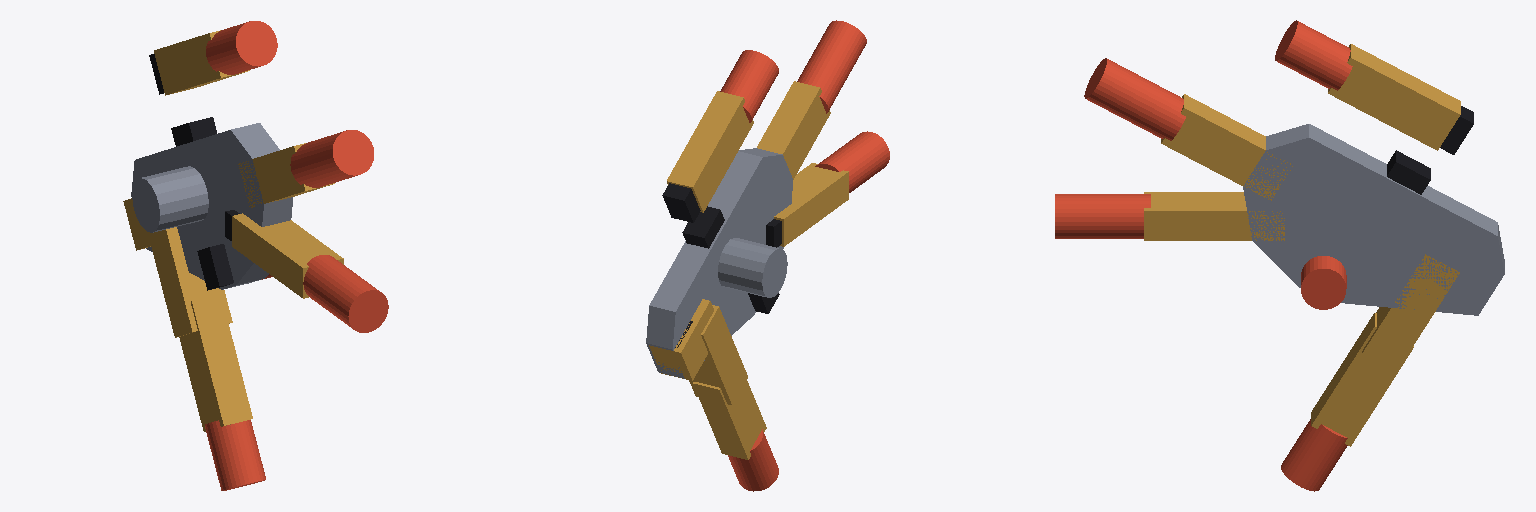
robot.urdf — g0067_c11:
<robot name="g0067_c11">
  <link name="palm">
    <visual name="palm_palm1">
      <origin xyz="0 0 0" rpy="0 0 0" />
      <geometry>
        <mesh filename="palm_palm1.obj" />
      </geometry>
      <material name="palm_palm1_mat">
        <color rgba="0.55 0.57 0.62 1" />
      </material>
    </visual>
    <collision>
      <origin xyz="0 0 0" rpy="0 0 0" />
      <geometry>
        <mesh filename="palm_palm1.obj" />
      </geometry>
    </collision>
    <visual name="palm_mount2">
      <origin xyz="0 0 0" rpy="0 0 0" />
      <geometry>
        <mesh filename="palm_mount2.obj" />
      </geometry>
      <material name="palm_mount2_mat">
        <color rgba="0.55 0.57 0.62 1" />
      </material>
    </visual>
    <collision>
      <origin xyz="0 0 0" rpy="0 0 0" />
      <geometry>
        <mesh filename="palm_mount2.obj" />
      </geometry>
    </collision>
    <visual name="palm_hinge3">
      <origin xyz="0 0.01625 0.0281458256" rpy="-1.57079633 0.523598776 1.57079633" />
      <geometry>
        <box size="0.029 0.034 0.02" />
      </geometry>
      <material name="palm_hinge3_mat">
        <color rgba="0.15 0.15 0.17 1" />
      </material>
    </visual>
    <collision>
      <origin xyz="0 0.01625 0.0281458256" rpy="-1.57079633 0.523598776 1.57079633" />
      <geometry>
        <box size="0.029 0.034 0.02" />
      </geometry>
    </collision>
    <visual name="palm_motor4">
      <origin xyz="-0.0045 -0.0725 1.37772765e-18" rpy="1.8369702e-16 -6.123234e-17 -1.12481984e-32" />
      <geometry>
        <box size="0.029 0.034 0.02" />
      </geometry>
      <material name="palm_motor4_mat">
        <color rgba="0.15 0.15 0.17 1" />
      </material>
    </visual>
    <collision>
      <origin xyz="-0.0045 -0.0725 1.37772765e-18" rpy="1.8369702e-16 -6.123234e-17 -1.12481984e-32" />
      <geometry>
        <box size="0.029 0.034 0.02" />
      </geometry>
    </collision>
    <visual name="palm_motor5">
      <origin xyz="0 -0.0735048095 0.03625" rpy="-1.57079633 -1.04719755 1.57079633" />
      <geometry>
        <box size="0.029 0.034 0.02" />
      </geometry>
      <material name="palm_motor5_mat">
        <color rgba="0.15 0.15 0.17 1" />
      </material>
    </visual>
    <collision>
      <origin xyz="0 -0.0735048095 0.03625" rpy="-1.57079633 -1.04719755 1.57079633" />
      <geometry>
        <box size="0.029 0.034 0.02" />
      </geometry>
    </collision>
    <visual name="palm_motor6">
      <origin xyz="-0.007 -0.04 -0.04" rpy="1.06057524e-16 -1.04719755 1.57079633" />
      <geometry>
        <box size="0.029 0.034 0.02" />
      </geometry>
      <material name="palm_motor6_mat">
        <color rgba="0.15 0.15 0.17 1" />
      </material>
    </visual>
    <collision>
      <origin xyz="-0.007 -0.04 -0.04" rpy="1.06057524e-16 -1.04719755 1.57079633" />
      <geometry>
        <box size="0.029 0.034 0.02" />
      </geometry>
    </collision>
    <visual name="palm_motor7">
      <origin xyz="-0.0045 0.0666996732 -0.0467548095" rpy="1.57079633 -0.523598776 -1.57079633" />
      <geometry>
        <box size="0.029 0.034 0.02" />
      </geometry>
      <material name="palm_motor7_mat">
        <color rgba="0.15 0.15 0.17 1" />
      </material>
    </visual>
    <collision>
      <origin xyz="-0.0045 0.0666996732 -0.0467548095" rpy="1.57079633 -0.523598776 -1.57079633" />
      <geometry>
        <box size="0.029 0.034 0.02" />
      </geometry>
    </collision>
    <inertial>
      <origin xyz="2.56313507e-19 -0.00935295339 -0.0074938495" rpy="1.57079633 0.458938927 1.57079633" />
      <mass value="0.72289775" />
      <inertia ixx="0.000563399007" ixy="0" ixz="0" iyy="0.00197705941" iyz="0" izz="0.00247106024" />
    </inertial>
  </link>
  <link name="palm0">
    <visual name="palm0_palm1">
      <origin xyz="0 0 0" rpy="0 0 0" />
      <geometry>
        <mesh filename="palm0_palm1.obj" />
      </geometry>
      <material name="palm0_palm1_mat">
        <color rgba="0.55 0.57 0.62 1" />
      </material>
    </visual>
    <collision>
      <origin xyz="0 0 0" rpy="0 0 0" />
      <geometry>
        <mesh filename="palm0_palm1.obj" />
      </geometry>
    </collision>
    <visual name="palm0_motor2">
      <origin xyz="0 0.0264951905 0.0416089838" rpy="-1.57079633 -1.04719755 1.57079633" />
      <geometry>
        <box size="0.029 0.034 0.02" />
      </geometry>
      <material name="palm0_motor2_mat">
        <color rgba="0.15 0.15 0.17 1" />
      </material>
    </visual>
    <collision>
      <origin xyz="0 0.0264951905 0.0416089838" rpy="-1.57079633 -1.04719755 1.57079633" />
      <geometry>
        <box size="0.029 0.034 0.02" />
      </geometry>
    </collision>
    <inertial>
      <origin xyz="1.05917598e-18 0.0152554736 0.0247918143" rpy="1.57079633 0.50750624 1.57079633" />
      <mass value="0.233248565" />
      <inertia ixx="7.64424394e-05" ixy="0" ixz="0" iyy="0.00022302995" iyz="0" izz="0.000277080527" />
    </inertial>
  </link>
  <link name="f0_link0">
    <visual name="f0_link0_link1">
      <origin xyz="0.03875 0 0" rpy="0 -0 0" />
      <geometry>
        <box size="0.1015 0.033 0.024" />
      </geometry>
      <material name="f0_link0_link1_mat">
        <color rgba="0.80 0.62 0.30 1" />
      </material>
    </visual>
    <collision>
      <origin xyz="0.03875 0 0" rpy="0 -0 0" />
      <geometry>
        <box size="0.1015 0.033 0.024" />
      </geometry>
    </collision>
    <inertial>
      <origin xyz="0.03875 0 0" rpy="0 0 0" />
      <mass value="0.140679" />
      <inertia ixx="1.95192113e-05" ixy="0" ixz="0" iyy="0.000127528444" iyz="0" izz="0.000133542472" />
    </inertial>
  </link>
  <link name="f0_link1">
    <visual name="f0_link1_link1">
      <origin xyz="0.039 0 4.62223187e-33" rpy="-1.57079633 -0 -1.57079633" />
      <geometry>
        <cylinder radius="0.0165" length="0.069" />
      </geometry>
      <material name="f0_link1_link1_mat">
        <color rgba="0.85 0.35 0.25 1" />
      </material>
    </visual>
    <collision>
      <origin xyz="0.039 0 4.62223187e-33" rpy="-1.57079633 -0 -1.57079633" />
      <geometry>
        <cylinder radius="0.0165" length="0.069" />
      </geometry>
    </collision>
    <inertial>
      <origin xyz="0.039 0 0" rpy="0 0 0" />
      <mass value="0.136206302" />
      <inertia ixx="1.76445909e-05" ixy="0" ixz="0" iyy="0.000104842911" iyz="0" izz="0.000104842911" />
    </inertial>
  </link>
  <link name="f1_link0">
    <visual name="f1_link0_link1">
      <origin xyz="0.03375 0 -1.04083409e-17" rpy="0 7.03853194e-17 0" />
      <geometry>
        <box size="0.0915 0.024 0.033" />
      </geometry>
      <material name="f1_link0_link1_mat">
        <color rgba="0.80 0.62 0.30 1" />
      </material>
    </visual>
    <collision>
      <origin xyz="0.03375 0 -1.04083409e-17" rpy="0 7.03853194e-17 0" />
      <geometry>
        <box size="0.0915 0.024 0.033" />
      </geometry>
    </collision>
    <inertial>
      <origin xyz="0.03375 0 0" rpy="0 0 0" />
      <mass value="0.126819" />
      <inertia ixx="1.75961363e-05" ixy="0" ixz="0" iyy="9.99888553e-05" iyz="0" izz="9.45673431e-05" />
    </inertial>
  </link>
  <link name="f1_link1">
    <visual name="f1_link1_link1">
      <origin xyz="0.039 0 -1.77809156e-17" rpy="-1.57079633 -0 -1.57079633" />
      <geometry>
        <cylinder radius="0.0165" length="0.069" />
      </geometry>
      <material name="f1_link1_link1_mat">
        <color rgba="0.85 0.35 0.25 1" />
      </material>
    </visual>
    <collision>
      <origin xyz="0.039 0 -1.77809156e-17" rpy="-1.57079633 -0 -1.57079633" />
      <geometry>
        <cylinder radius="0.0165" length="0.069" />
      </geometry>
    </collision>
    <inertial>
      <origin xyz="0.039 0 0" rpy="0 0 0" />
      <mass value="0.136206302" />
      <inertia ixx="1.76445909e-05" ixy="0" ixz="0" iyy="0.000104842911" iyz="0" izz="0.000104842911" />
    </inertial>
  </link>
  <link name="f2_link0">
    <visual name="f2_link0_link1">
      <origin xyz="0.019 3.46944695e-18 -3.46944695e-18" rpy="-1.57079633 -0 -1.57079633" />
      <geometry>
        <cylinder radius="0.0165" length="0.029" />
      </geometry>
      <material name="f2_link0_link1_mat">
        <color rgba="0.85 0.35 0.25 1" />
      </material>
    </visual>
    <collision>
      <origin xyz="0.019 3.46944695e-18 -3.46944695e-18" rpy="-1.57079633 -0 -1.57079633" />
      <geometry>
        <cylinder radius="0.0165" length="0.029" />
      </geometry>
    </collision>
    <inertial>
      <origin xyz="0.019 0 0" rpy="0 0 0" />
      <mass value="0.0763354" />
      <inertia ixx="9.49466441e-06" ixy="0" ixz="0" iyy="2.24143997e-05" iyz="0" izz="2.24143997e-05" />
    </inertial>
  </link>
  <link name="f3_link0">
    <visual name="f3_link0_link1">
      <origin xyz="-0.00625 0 -0.0165" rpy="0 4.06369831e-17 0" />
      <geometry>
        <box size="0.0365 0.029 0.053" />
      </geometry>
      <material name="f3_link0_link1_mat">
        <color rgba="0.80 0.62 0.30 1" />
      </material>
    </visual>
    <collision>
      <origin xyz="-0.00625 0 -0.0165" rpy="0 4.06369831e-17 0" />
      <geometry>
        <box size="0.0365 0.029 0.053" />
      </geometry>
    </collision>
    <inertial>
      <origin xyz="-0.00625 0 -0.0165" rpy="0 0 0" />
      <mass value="0.098175875" />
      <inertia ixx="2.98618286e-05" ixy="0" ixz="0" iyy="3.38809035e-05" iyz="0" izz="1.778006e-05" />
    </inertial>
  </link>
  <link name="f3_link1">
    <visual name="f3_link1_link1">
      <origin xyz="0.03375 0 6.9388939e-18" rpy="0 4.06369831e-17 0" />
      <geometry>
        <box size="0.0915 0.033 0.029" />
      </geometry>
      <material name="f3_link1_link1_mat">
        <color rgba="0.80 0.62 0.30 1" />
      </material>
    </visual>
    <collision>
      <origin xyz="0.03375 0 6.9388939e-18" rpy="0 4.06369831e-17 0" />
      <geometry>
        <box size="0.0915 0.033 0.029" />
      </geometry>
    </collision>
    <inertial>
      <origin xyz="0.03375 0 0" rpy="0 0 0" />
      <mass value="0.153239625" />
      <inertia ixx="2.46460397e-05" ixy="0" ixz="0" iyy="0.000117652915" iyz="0" izz="0.000120819867" />
    </inertial>
  </link>
  <link name="f3_link2">
    <visual name="f3_link2_link1">
      <origin xyz="0.03375 0 -1.38777878e-17" rpy="0 4.06369831e-17 0" />
      <geometry>
        <box size="0.0915 0.024 0.033" />
      </geometry>
      <material name="f3_link2_link1_mat">
        <color rgba="0.80 0.62 0.30 1" />
      </material>
    </visual>
    <collision>
      <origin xyz="0.03375 0 -1.38777878e-17" rpy="0 4.06369831e-17 0" />
      <geometry>
        <box size="0.0915 0.024 0.033" />
      </geometry>
    </collision>
    <inertial>
      <origin xyz="0.03375 0 0" rpy="0 0 0" />
      <mass value="0.126819" />
      <inertia ixx="1.75961363e-05" ixy="0" ixz="0" iyy="9.99888553e-05" iyz="0" izz="9.45673431e-05" />
    </inertial>
  </link>
  <link name="f3_link3">
    <visual name="f3_link3_link1">
      <origin xyz="0.029 0 1.04083409e-17" rpy="-1.57079633 -0 -1.57079633" />
      <geometry>
        <cylinder radius="0.0165" length="0.049" />
      </geometry>
      <material name="f3_link3_link1_mat">
        <color rgba="0.85 0.35 0.25 1" />
      </material>
    </visual>
    <collision>
      <origin xyz="0.029 0 1.04083409e-17" rpy="-1.57079633 -0 -1.57079633" />
      <geometry>
        <cylinder radius="0.0165" length="0.049" />
      </geometry>
    </collision>
    <inertial>
      <origin xyz="0.029 0 0" rpy="0 0 0" />
      <mass value="0.106270851" />
      <inertia ixx="1.35696277e-05" ixy="0" ixz="0" iyy="5.30015704e-05" iyz="0" izz="5.30015704e-05" />
    </inertial>
  </link>
  <link name="f4_link0">
    <visual name="f4_link0_link1">
      <origin xyz="0.03375 0 0" rpy="0 7.03853194e-17 0" />
      <geometry>
        <box size="0.0915 0.024 0.033" />
      </geometry>
      <material name="f4_link0_link1_mat">
        <color rgba="0.80 0.62 0.30 1" />
      </material>
    </visual>
    <collision>
      <origin xyz="0.03375 0 0" rpy="0 7.03853194e-17 0" />
      <geometry>
        <box size="0.0915 0.024 0.033" />
      </geometry>
    </collision>
    <inertial>
      <origin xyz="0.03375 0 0" rpy="0 0 0" />
      <mass value="0.126819" />
      <inertia ixx="1.75961363e-05" ixy="0" ixz="0" iyy="9.99888553e-05" iyz="0" izz="9.45673431e-05" />
    </inertial>
  </link>
  <link name="f4_link1">
    <visual name="f4_link1_link1">
      <origin xyz="0.029 0 -6.9388939e-18" rpy="-1.57079633 -0 -1.57079633" />
      <geometry>
        <cylinder radius="0.0165" length="0.049" />
      </geometry>
      <material name="f4_link1_link1_mat">
        <color rgba="0.85 0.35 0.25 1" />
      </material>
    </visual>
    <collision>
      <origin xyz="0.029 0 -6.9388939e-18" rpy="-1.57079633 -0 -1.57079633" />
      <geometry>
        <cylinder radius="0.0165" length="0.049" />
      </geometry>
    </collision>
    <inertial>
      <origin xyz="0.029 0 0" rpy="0 0 0" />
      <mass value="0.106270851" />
      <inertia ixx="1.35696277e-05" ixy="0" ixz="0" iyy="5.30015704e-05" iyz="0" izz="5.30015704e-05" />
    </inertial>
  </link>
  <joint name="palm0_joint" type="revolute">
    <parent link="palm" />
    <child link="palm0" />
    <origin xyz="0 0.02 0.0346410162" rpy="0 0 0" />
    <axis xyz="0 0.866025404 -0.5" />
    <limit effort="0.5" lower="-0.523598776" upper="0.523598776" velocity="5" />
    <dynamics damping="0.0775033" friction="0" />
  </joint>
  <joint name="f0_j0" type="revolute">
    <parent link="palm" />
    <child link="f0_link0" />
    <origin xyz="-0.0045 -0.08 0" rpy="0 1.8369702e-16 -1.57079633" />
    <axis xyz="-0 -1 -6.123234e-17" />
    <limit effort="0.5" lower="-0.523598776" upper="0.523598776" velocity="5" />
    <dynamics damping="0.0775033" friction="0" />
  </joint>
  <joint name="f0_j1" type="revolute">
    <parent link="f0_link0" />
    <child link="f0_link1" />
    <origin xyz="0.08 0 0" rpy="0 0 0" />
    <axis xyz="-0 -1 -6.123234e-17" />
    <limit effort="0.5" lower="-0.523598776" upper="0.523598776" velocity="5" />
    <dynamics damping="0.0775033" friction="0" />
  </joint>
  <joint name="f1_j0" type="revolute">
    <parent link="palm" />
    <child link="f1_link0" />
    <origin xyz="0 -0.08 0.04" rpy="-0 -0.523598776 -1.57079633" />
    <axis xyz="0 0 1" />
    <limit effort="0.5" lower="-0.523598776" upper="1.57079633" velocity="5" />
    <dynamics damping="0.0775033" friction="0" />
  </joint>
  <joint name="f1_j1" type="revolute">
    <parent link="f1_link0" />
    <child link="f1_link1" />
    <origin xyz="0.07 0 0" rpy="0 0 0" />
    <axis xyz="0 0 1" />
    <limit effort="0.5" lower="-0.523598776" upper="1.57079633" velocity="5" />
    <dynamics damping="0.0775033" friction="0" />
  </joint>
  <joint name="f2_j0" type="revolute">
    <parent link="palm" />
    <child link="f2_link0" />
    <origin xyz="0.0005 -0.04 -0.04" rpy="1.04719755 5.30287619e-17 -3.061617e-17" />
    <axis xyz="0 1 6.123234e-17" />
    <limit effort="0.5" lower="-0.523598776" upper="0.523598776" velocity="5" />
    <dynamics damping="0.0775033" friction="0" />
  </joint>
  <joint name="f3_j0" type="revolute">
    <parent link="palm" />
    <child link="f3_link0" />
    <origin xyz="-0.0045 0.04 -0.04" rpy="0 1.04719755 -1.57079633" />
    <axis xyz="0 0 1" />
    <limit effort="0.5" lower="-0.523598776" upper="1.57079633" velocity="5" />
    <dynamics damping="0.0775033" friction="0" />
  </joint>
  <joint name="f3_j1" type="revolute">
    <parent link="f3_link0" />
    <child link="f3_link1" />
    <origin xyz="0 0 0" rpy="0 0 0" />
    <axis xyz="0 1 6.123234e-17" />
    <limit effort="0.5" lower="-0.523598776" upper="0.523598776" velocity="5" />
    <dynamics damping="0.0775033" friction="0" />
  </joint>
  <joint name="f3_j2" type="revolute">
    <parent link="f3_link1" />
    <child link="f3_link2" />
    <origin xyz="0.07 0 0" rpy="0 0 0" />
    <axis xyz="0 0 1" />
    <limit effort="0.5" lower="-0.523598776" upper="1.57079633" velocity="5" />
    <dynamics damping="0.0775033" friction="0" />
  </joint>
  <joint name="f3_j3" type="revolute">
    <parent link="f3_link2" />
    <child link="f3_link3" />
    <origin xyz="0.07 0 0" rpy="0 0 0" />
    <axis xyz="0 0 1" />
    <limit effort="0.5" lower="-0.523598776" upper="1.57079633" velocity="5" />
    <dynamics damping="0.0775033" friction="0" />
  </joint>
  <joint name="f4_j0" type="revolute">
    <parent link="palm0" />
    <child link="f4_link0" />
    <origin xyz="0 0.02 0.0453589838" rpy="-0 -0.523598776 -1.57079633" />
    <axis xyz="0 0 1" />
    <limit effort="0.5" lower="-0.523598776" upper="1.57079633" velocity="5" />
    <dynamics damping="0.0775033" friction="0" />
  </joint>
  <joint name="f4_j1" type="revolute">
    <parent link="f4_link0" />
    <child link="f4_link1" />
    <origin xyz="0.07 0 0" rpy="0 0 0" />
    <axis xyz="0 0 1" />
    <limit effort="0.5" lower="-0.523598776" upper="1.57079633" velocity="5" />
    <dynamics damping="0.0775033" friction="0" />
  </joint>
</robot>

--- Facts derived from the render (not from the file) ---
3 views of the same robot in one strip: view 1: azimuth 30°, elevation 25°; view 2: azimuth 150°, elevation 25°; view 3: azimuth 270°, elevation 25° (orthographic).
Robot: g0067_c11 — 13 links, 12 joints (12 revolute); root link palm; default pose: all joints at 0.
Links seen in each view (by area): view 1: palm, f3_link2, f0_link0, f0_link1, f3_link1, f1_link1, f3_link3, f4_link1, f4_link0, f1_link0, f3_link0; view 2: palm, f4_link0, f1_link0, f0_link0, f3_link2, f1_link1, f3_link1, f0_link1, f4_link1, f3_link0, f3_link3, palm0; view 3: palm, f4_link0, f0_link0, f1_link0, f3_link2, f1_link1, f3_link1, f0_link1, f4_link1, f3_link3, f2_link0, palm0.
Link boxes in pixels (left/top/right/bottom): palm: left=131, top=117, right=292, bottom=290; f3_link2: left=179, top=294, right=252, bottom=431; f0_link0: left=232, top=213, right=343, bottom=298; f0_link1: left=303, top=255, right=388, bottom=332; f3_link1: left=148, top=227, right=232, bottom=337; f1_link1: left=290, top=130, right=373, bottom=187; f3_link3: left=205, top=420, right=265, bottom=490; f4_link1: left=206, top=21, right=277, bottom=74; f4_link0: left=154, top=30, right=249, bottom=95; f1_link0: left=238, top=143, right=334, bottom=207; f3_link0: left=123, top=198, right=150, bottom=250; palm: left=646, top=148, right=792, bottom=378; f4_link0: left=667, top=91, right=753, bottom=212; f1_link0: left=757, top=81, right=830, bottom=179; f0_link0: left=774, top=163, right=848, bottom=246; f3_link2: left=693, top=380, right=766, bottom=459; f1_link1: left=797, top=20, right=866, bottom=113; f3_link1: left=689, top=305, right=747, bottom=404; f0_link1: left=815, top=131, right=889, bottom=192; f4_link1: left=720, top=50, right=778, bottom=122; f3_link0: left=649, top=299, right=713, bottom=380; f3_link3: left=728, top=429, right=778, bottom=491; palm0: left=662, top=183, right=700, bottom=222; palm: left=1243, top=124, right=1504, bottom=315; f4_link0: left=1328, top=44, right=1460, bottom=150; f0_link0: left=1144, top=192, right=1284, bottom=240; f1_link0: left=1161, top=94, right=1292, bottom=200; f3_link2: left=1311, top=313, right=1413, bottom=446; f1_link1: left=1084, top=58, right=1185, bottom=140; f3_link1: left=1362, top=254, right=1459, bottom=371; f0_link1: left=1055, top=194, right=1150, bottom=238; f4_link1: left=1275, top=20, right=1352, bottom=90; f3_link3: left=1281, top=419, right=1347, bottom=491; f2_link0: left=1301, top=256, right=1346, bottom=309; palm0: left=1440, top=106, right=1473, bottom=154.
Size in the robot's own frame: 0.086 by 0.324 by 0.3719 metres.
Meshes: 3 distinct files referenced, 2 mesh visuals loaded (2 OBJ); not drawn: 1 (reference not matched to a file when rendering).
